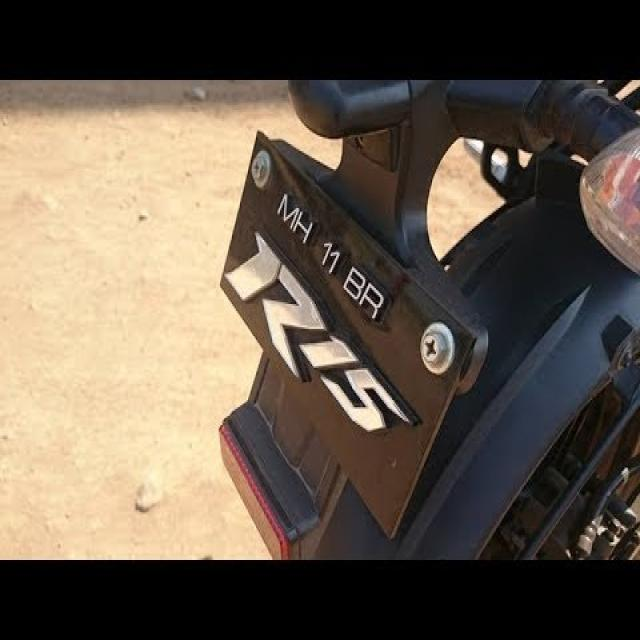license_plate: (217, 127, 484, 540)
